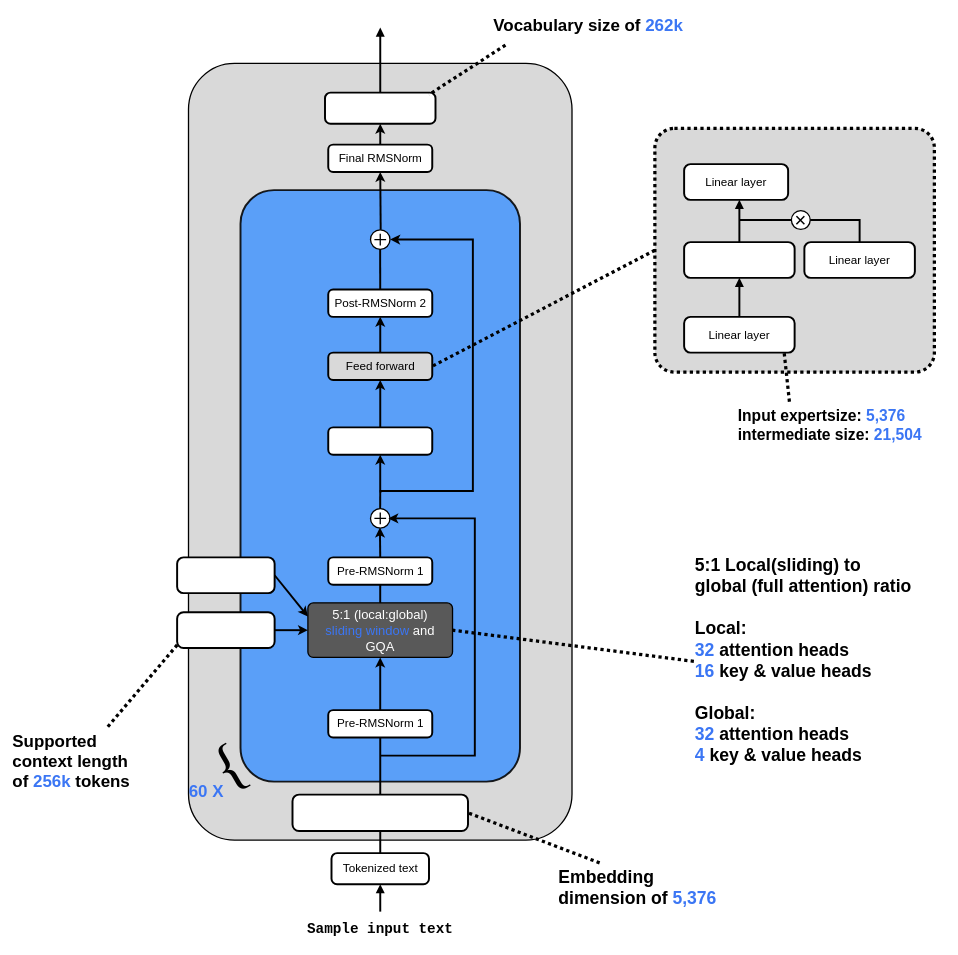
This 958x955 diagram has some shape labels left out. The shapes that lost their labels are listed below. From the top down, each one's centre as x and y in pixels, then its label:
At [380,107]: "Linear output layer".
At [739,260]: "GELU activation".
At [380,440]: "Pre-RMSNorm 2".
At [225,575]: "QK-Norm".
At [225,630]: "RoPE".
At [380,812]: "Token embedding layer".
